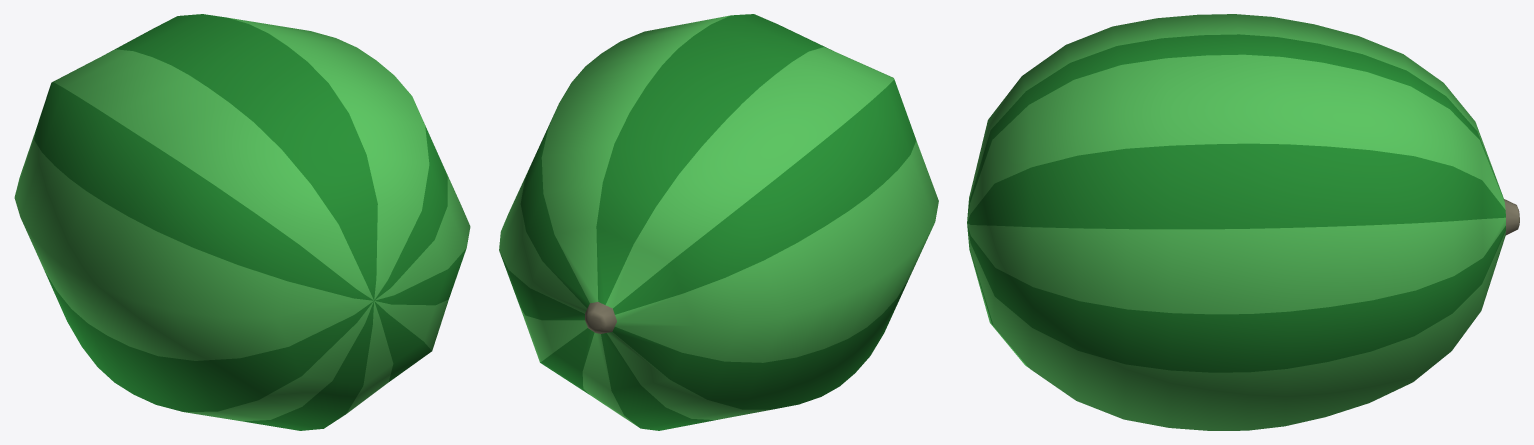
File: Watermelon_Two.fbx
3 views of the same model, side by side, from view 1: azimuth 30°, elevation 25°; view 2: azimuth 150°, elevation 25°; view 3: azimuth 270°, elevation 25° (orthographic). The views are drawn at different scales.
Parts seen in each view (by area): view 1: Watermelon_Two; view 2: Watermelon_Two; view 3: Watermelon_Two.
Part boxes in pixels (x1=…): Watermelon_Two: x1=14, y1=14, x2=470, y2=430; Watermelon_Two: x1=499, y1=14, x2=938, y2=430; Watermelon_Two: x1=967, y1=14, x2=1519, y2=430.
Bounding box in the file's own units: 67.77 × 64.87 × 83.91.
